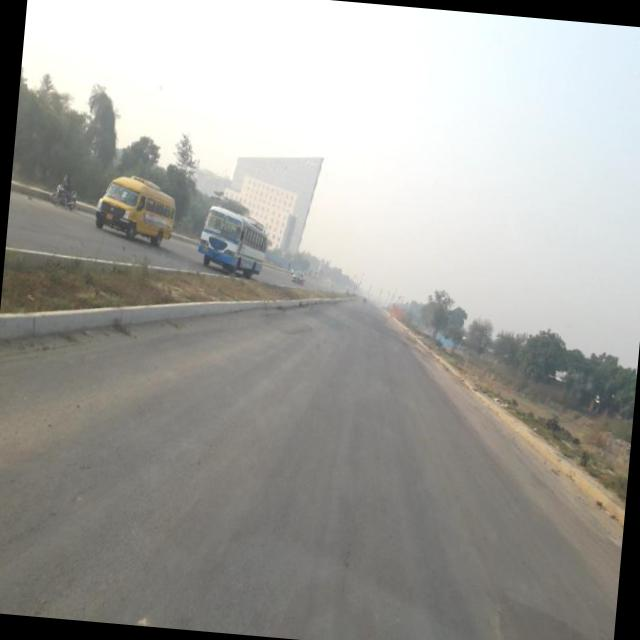pothole: (293, 452, 391, 640)
